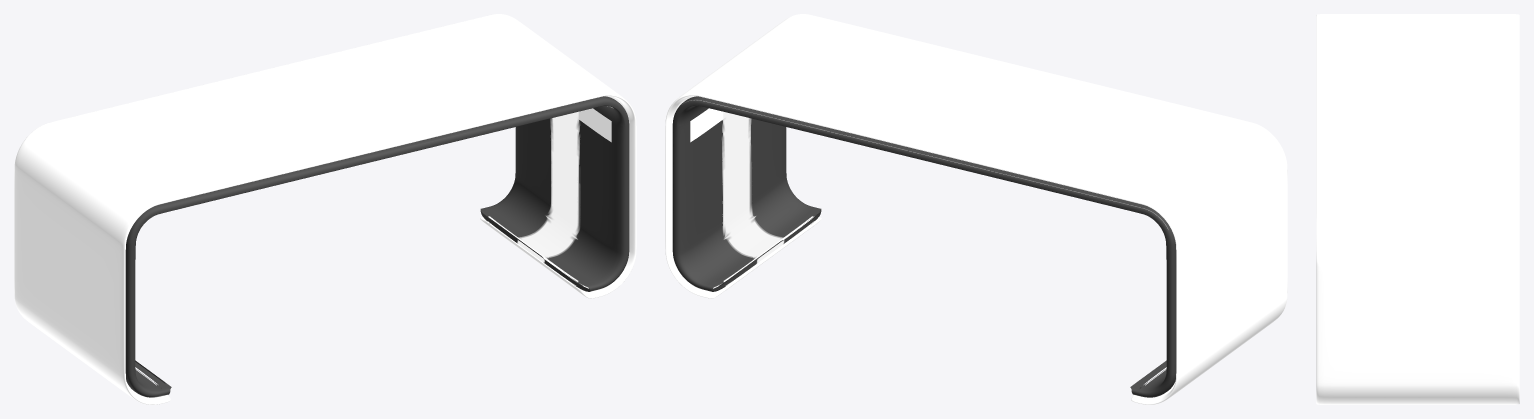
Rendered from meja (1).fbx.
3 renders of one model, left to right at view 1: azimuth 30°, elevation 25°; view 2: azimuth 150°, elevation 25°; view 3: azimuth 270°, elevation 25°, orthographic. The views are drawn at different scales.
Parts seen in each view (by area): view 1: Plane.001, Plane; view 2: Plane.001, Plane; view 3: Plane.001.
Boxes of the visible parts, x1=… form: Plane.001: x1=14, y1=14, x2=636, y2=404; Plane: x1=125, y1=96, x2=629, y2=397; Plane.001: x1=665, y1=14, x2=1287, y2=404; Plane: x1=672, y1=96, x2=1176, y2=397; Plane.001: x1=1316, y1=14, x2=1519, y2=404.
Size of the model in its own units: 797 by 301 by 297.
1 material, 1 textured.
